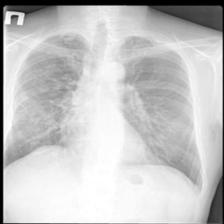tuberculosis: (3, 24, 210, 198)
